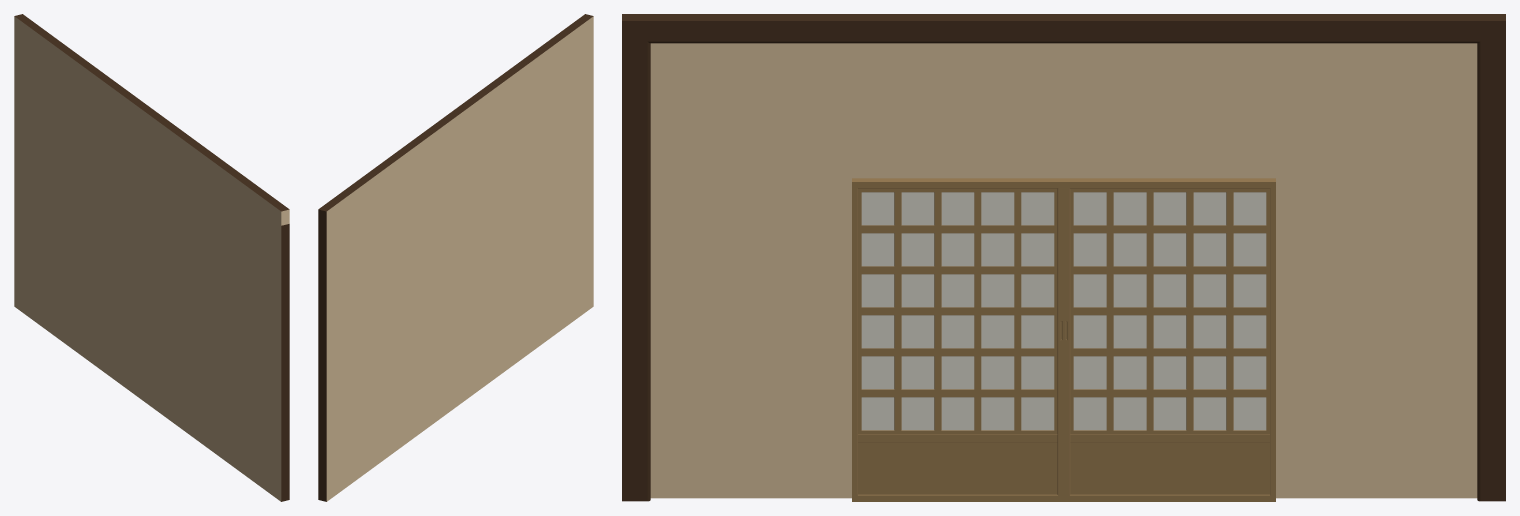
The model's file is Wall_Door_Main_Hall.fbx.
3 renders of one model, left to right at view 1: azimuth 30°, elevation 25°; view 2: azimuth 150°, elevation 25°; view 3: azimuth 270°, elevation 25°, orthographic. The views are drawn at different scales.
Visible parts, largest first — view 1: Cube.004; view 2: Cube.004; view 3: Cube.004.
Part boxes in pixels (x1,y1,x2,y2): Cube.004: (14, 14, 289, 501); Cube.004: (318, 14, 593, 501); Cube.004: (622, 14, 1505, 501).
Size of the model in its own units: 19.8 by 600 by 1000.
